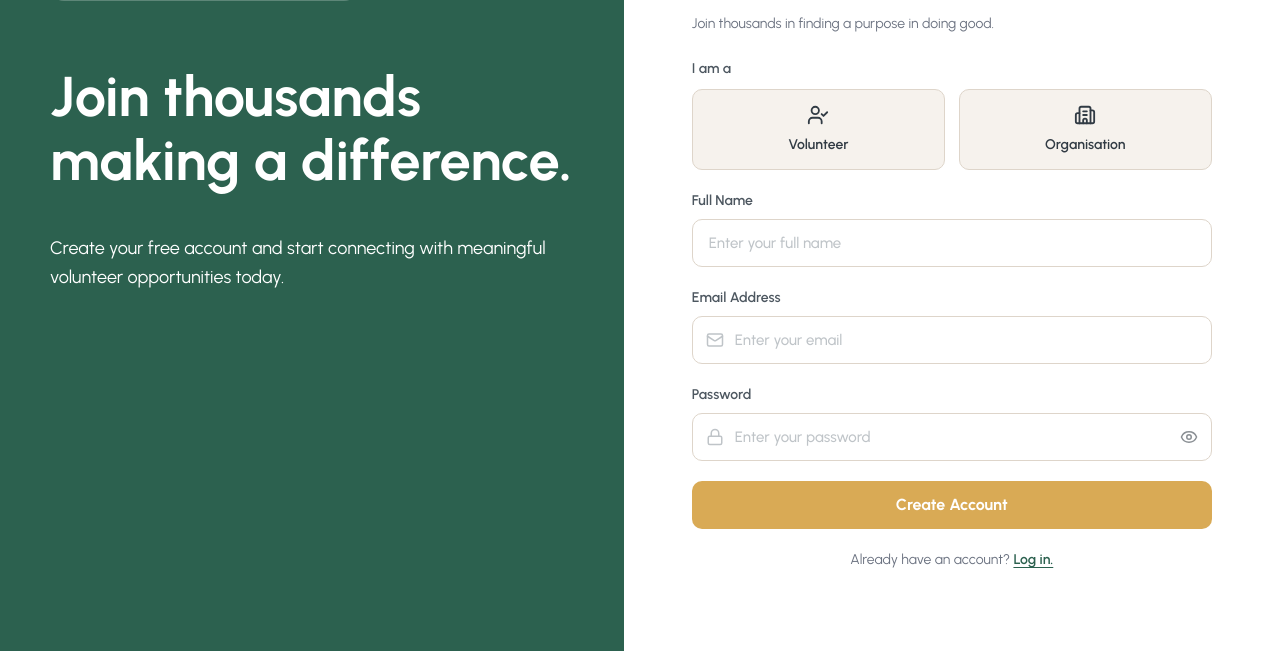
Test: login and signup forms › requires Organisation biodata
Step 1. Click the button "Organisation" → (1085, 130), box [959,89,1212,170]
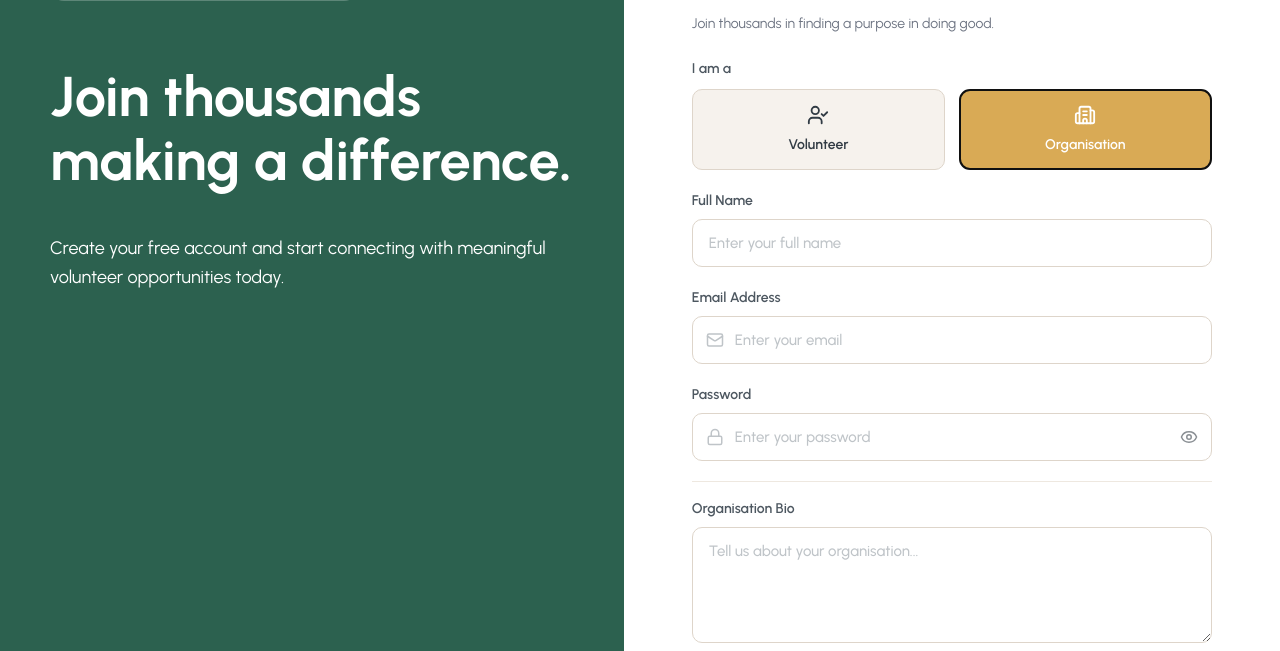
Step 2. Type "Alex Tan" into the field with placeholder "Enter your full name" → (952, 243), box [692,219,1212,267]
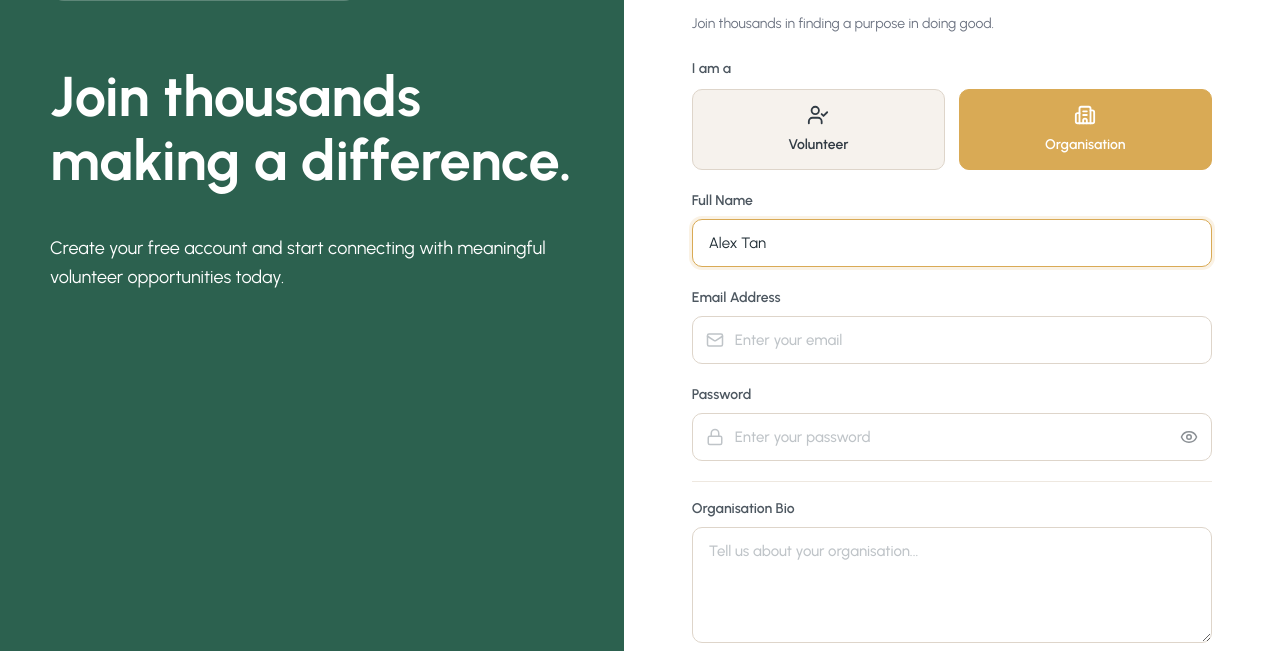
Step 3. Type "alex@example.com" into the field with placeholder "Enter your email" → (952, 340), box [692,316,1212,364]
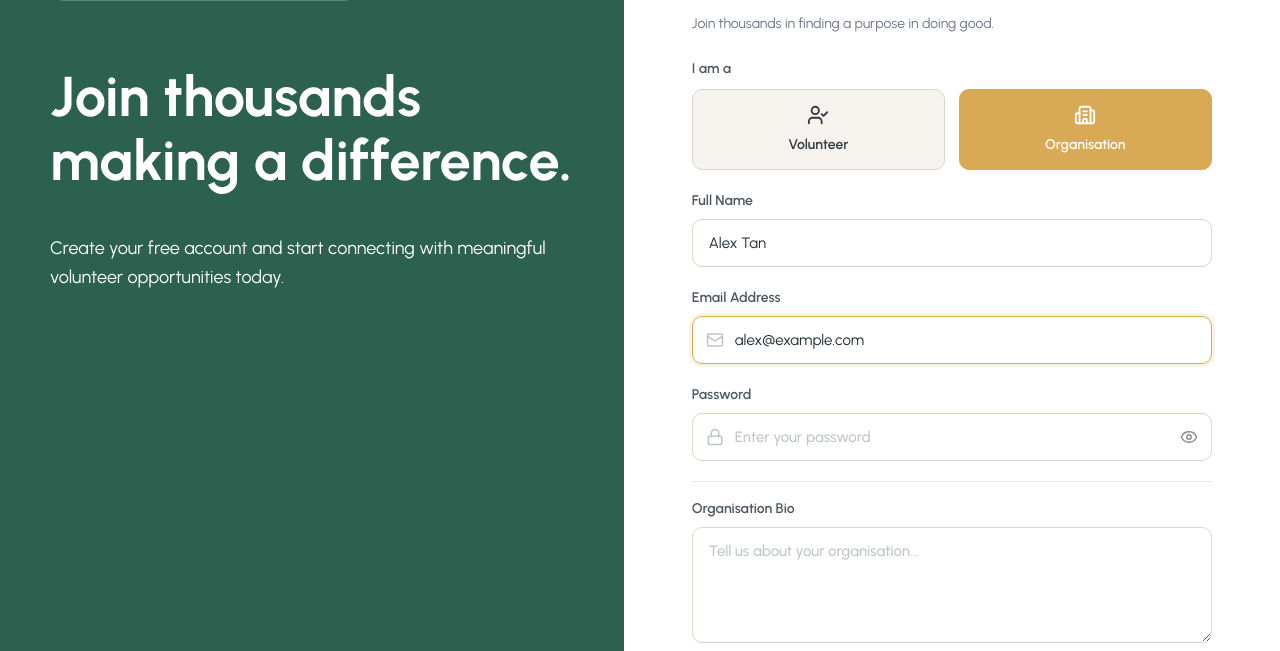
Step 4. Type "StrongPass1" into the password field with placeholder "Enter your password" → (952, 437), box [692,413,1212,461]
(page scrolled)
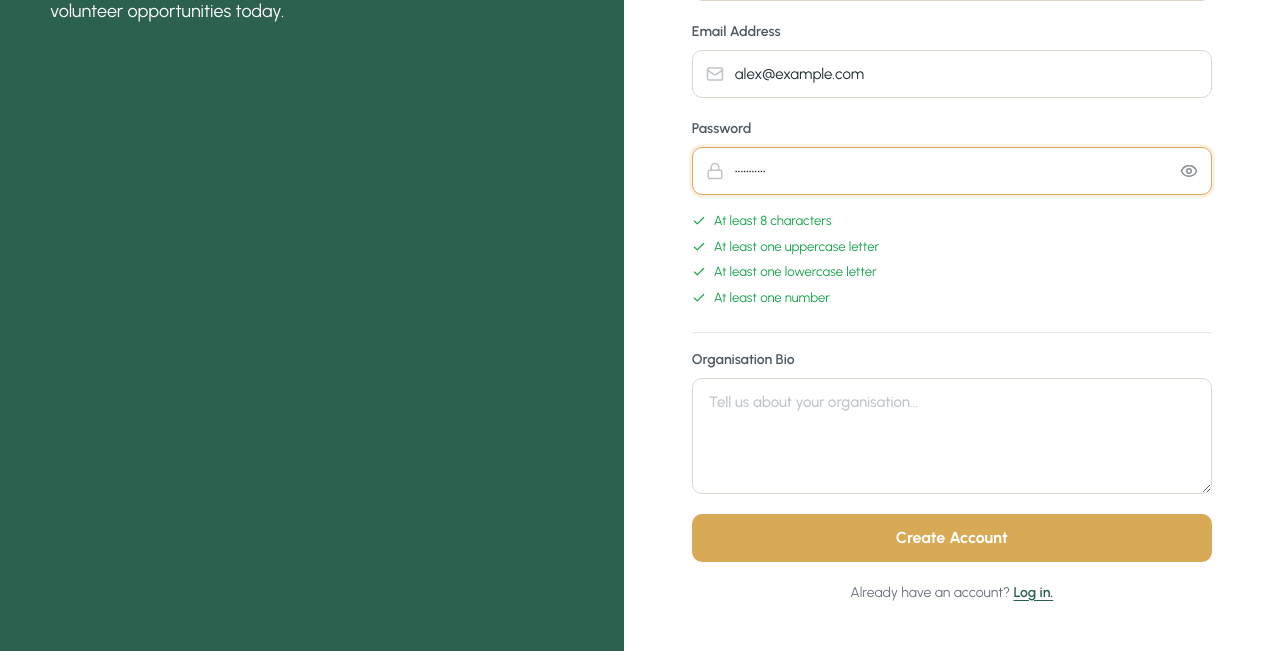
Step 5. Click the button "Create Account" → (952, 538), box [692,514,1212,562]
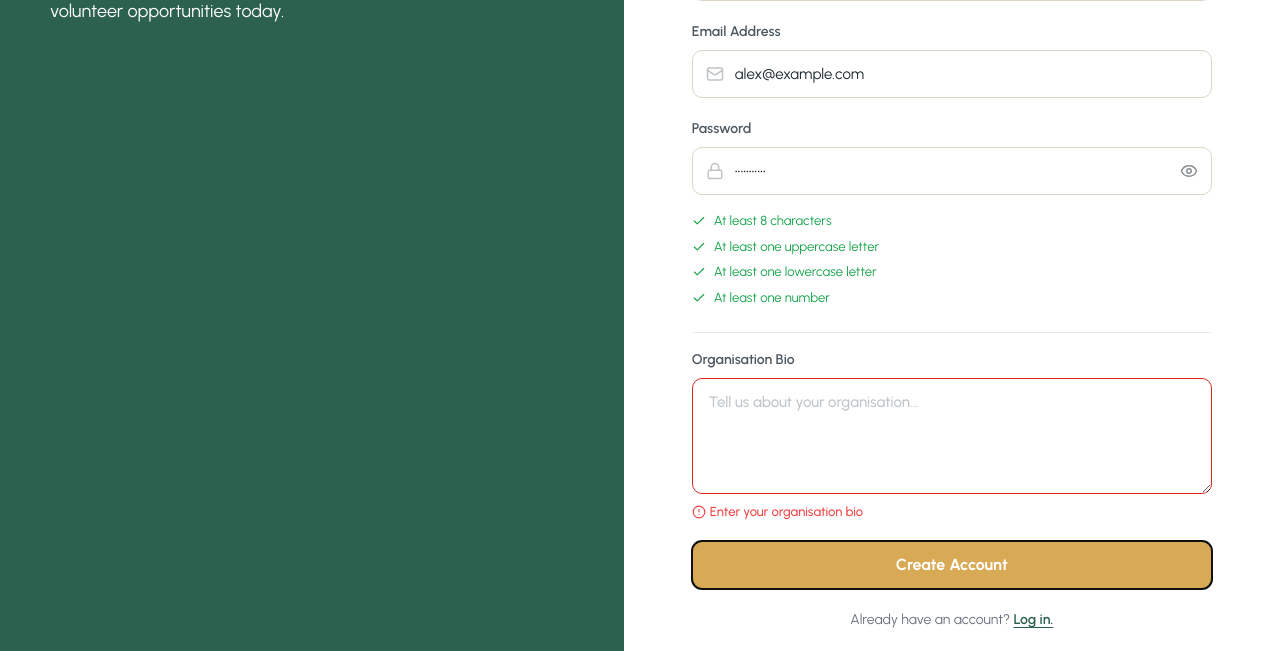
Result: the text "Enter your organisation bio" is shown at [692,504,863,519]
